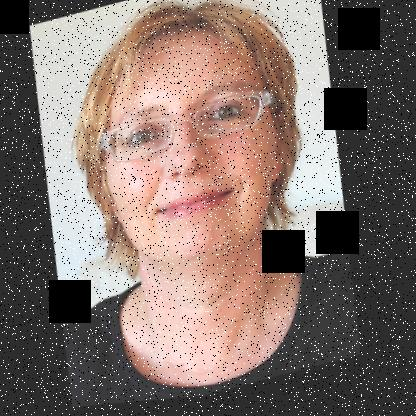Female: (80, 9, 309, 284)
